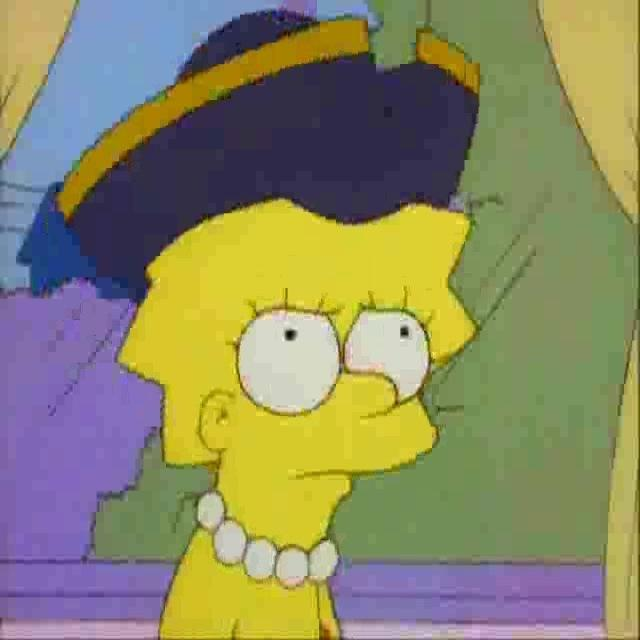Lisa Simpson: (112, 198, 480, 589)
